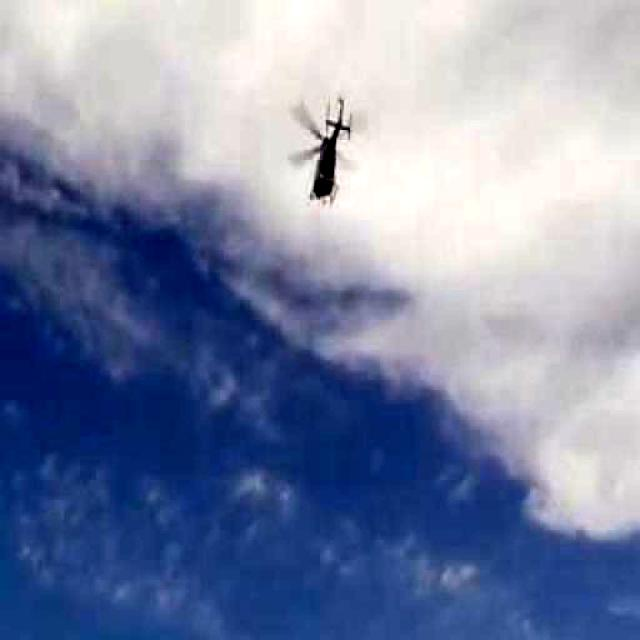drone: (258, 76, 384, 228)
